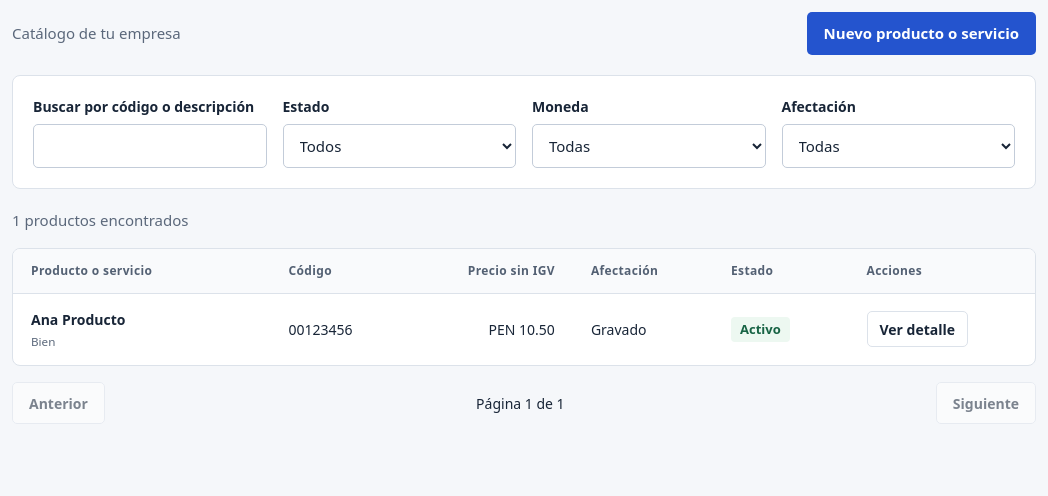
it: permisos de productos › respeta el rol owner
Expected: the text "Ana Producto" is shown, [31,310,126,328]
Click the button "Ver detalle": point(917, 329) [866,311,968,347]
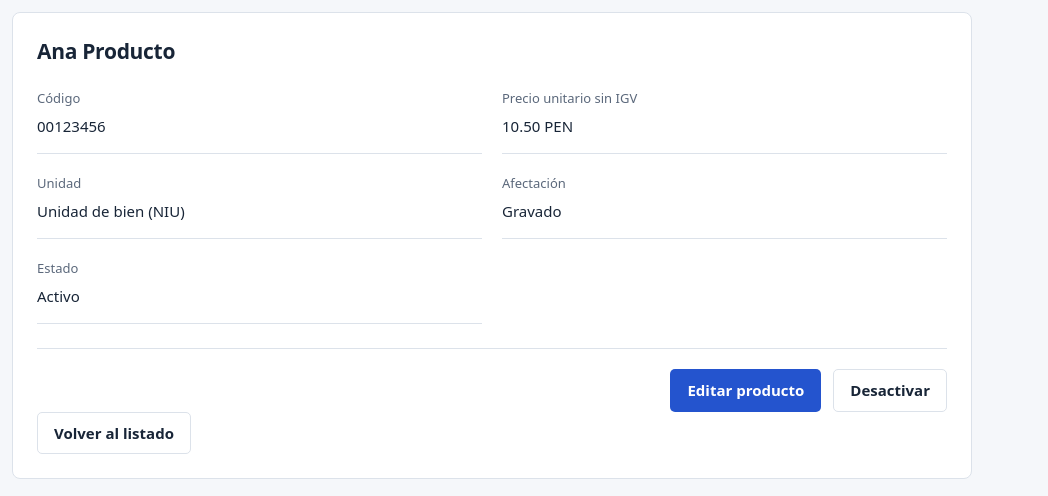
Expected: the text "Unidad de bien (NIU)" is shown, [37,201,185,221]
